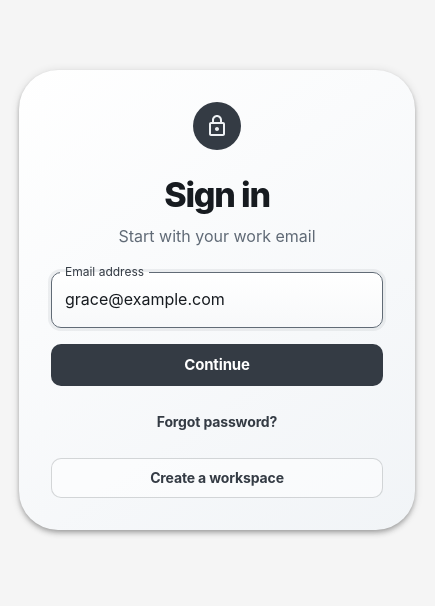
Test case: LoginPage › shows only password login for PASSWORD_ONLY
This screenshot has width=435, height=606.
Click the button "Continue": {"x": 217, "y": 365} [51,344,383,386]
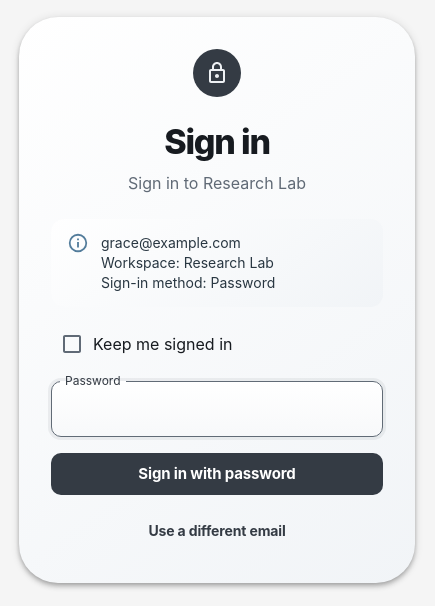
Expected: the password field labelled "Password" is shown, [51,381,383,437]
Expected: the button "Sign in with password" is shown, [51,453,383,495]
Expected: the checkbox labelled "Keep me signed in" is not checked, [60,332,232,356]
